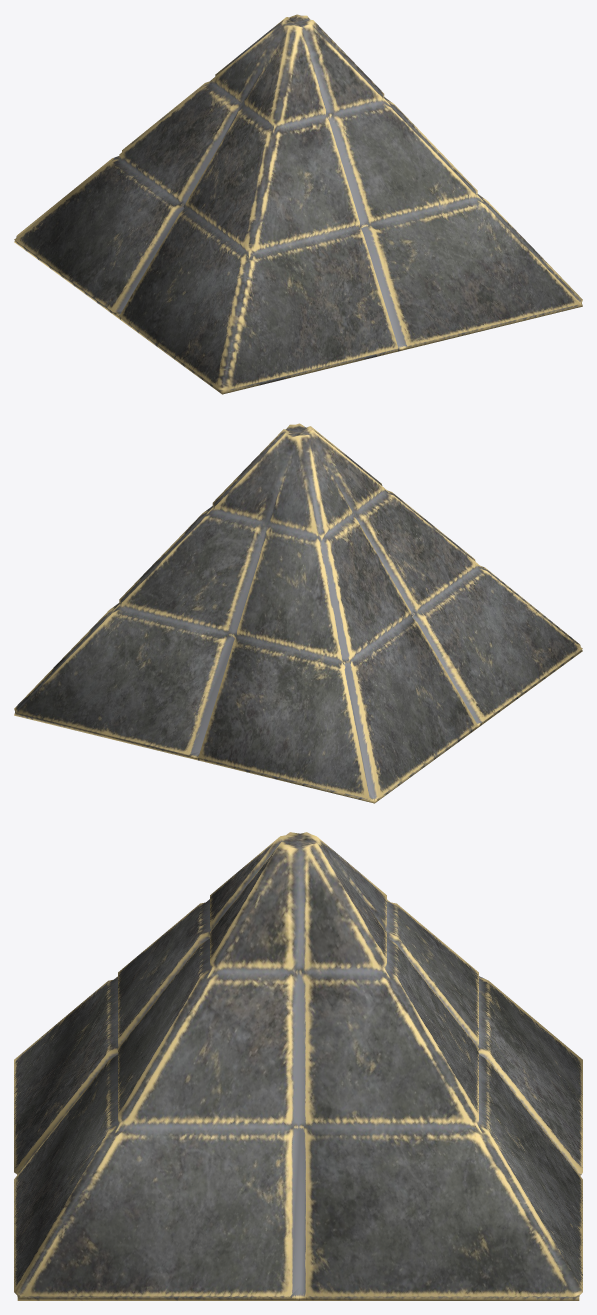
File: pyramid-lowpoly-v1.glb
3 renders of one model, top to bottom at view 1: azimuth 30°, elevation 25°; view 2: azimuth 150°, elevation 25°; view 3: azimuth 270°, elevation 25°, orthographic. The views are drawn at different scales.
Parts seen in each view (by area): view 1: pyramid.low_Plane; view 2: pyramid.low_Plane; view 3: pyramid.low_Plane.
Part boxes in pixels (x1,y1,x2,y2): pyramid.low_Plane: [14, 14, 582, 394]; pyramid.low_Plane: [14, 423, 582, 803]; pyramid.low_Plane: [14, 832, 582, 1300].
Size of the model in its own units: 3.93 by 2.61 by 3.93.
Materials: 1 (1 with a texture image).
